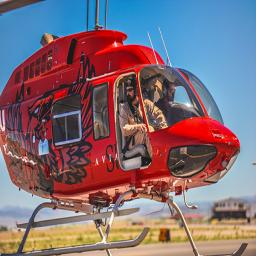helicopter: (2, 17, 247, 255)
